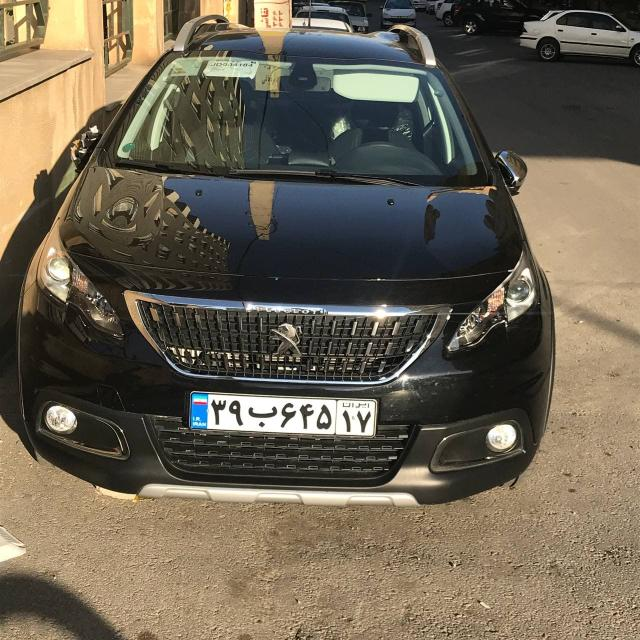Plates: (190, 392, 377, 438)
